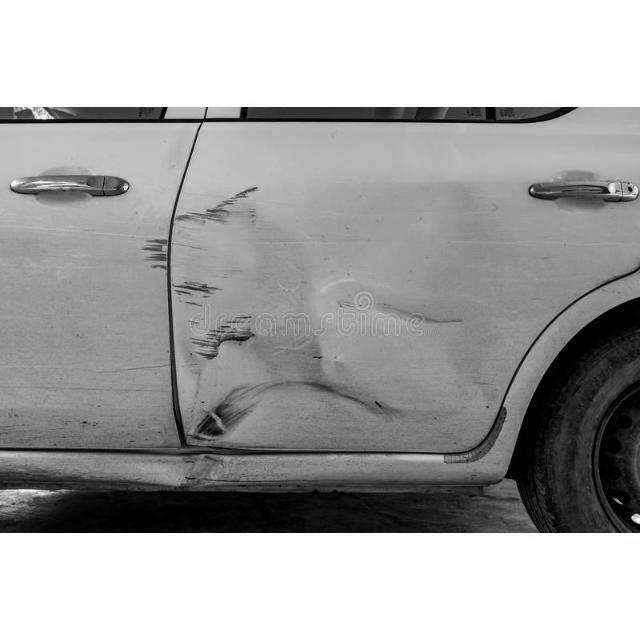Runningboard-Damage: (1, 449, 418, 497)
doorouter-dent: (184, 117, 540, 454), (2, 125, 174, 453)
